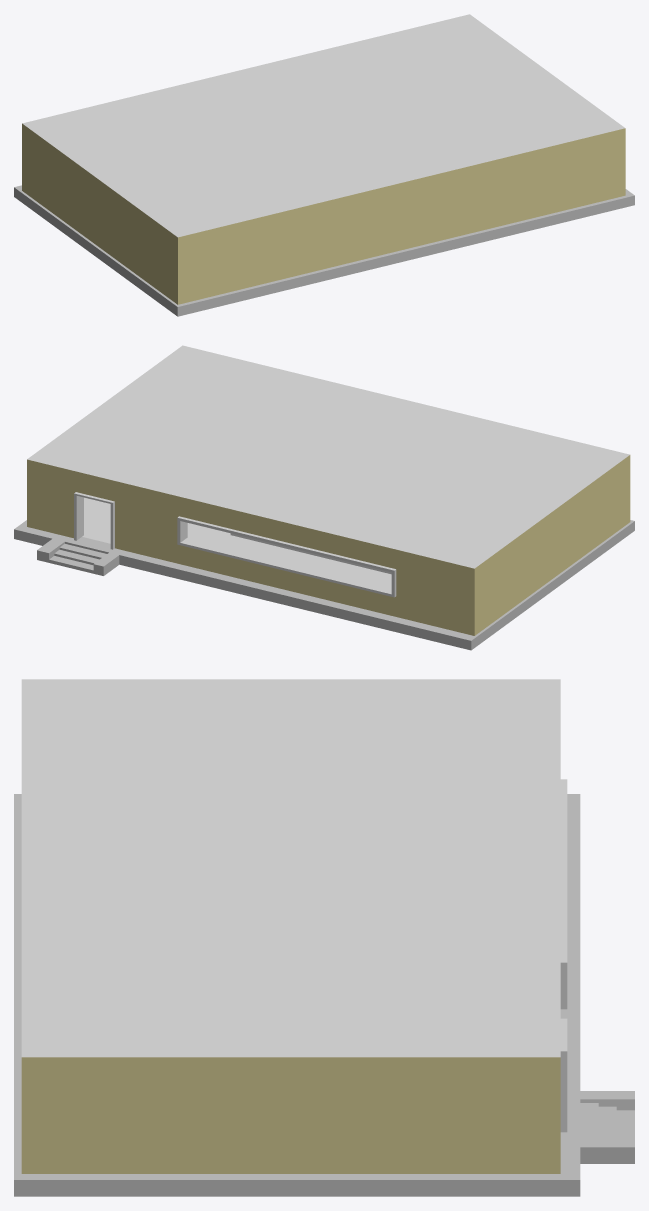
File: Shop.fbx
3 renders of one model, top to bottom at view 1: azimuth 30°, elevation 25°; view 2: azimuth 150°, elevation 25°; view 3: azimuth 270°, elevation 25°, orthographic. The views are drawn at different scales.
Parts seen in each view (by area): view 1: Shop; view 2: Shop; view 3: Shop.
Part boxes in pixels (bbox=[...]): Shop: bbox=[14, 14, 634, 316]; Shop: bbox=[14, 345, 634, 650]; Shop: bbox=[14, 679, 634, 1196].
Bounding box in the file's own units: 22.79 × 3.67 × 15.5.
